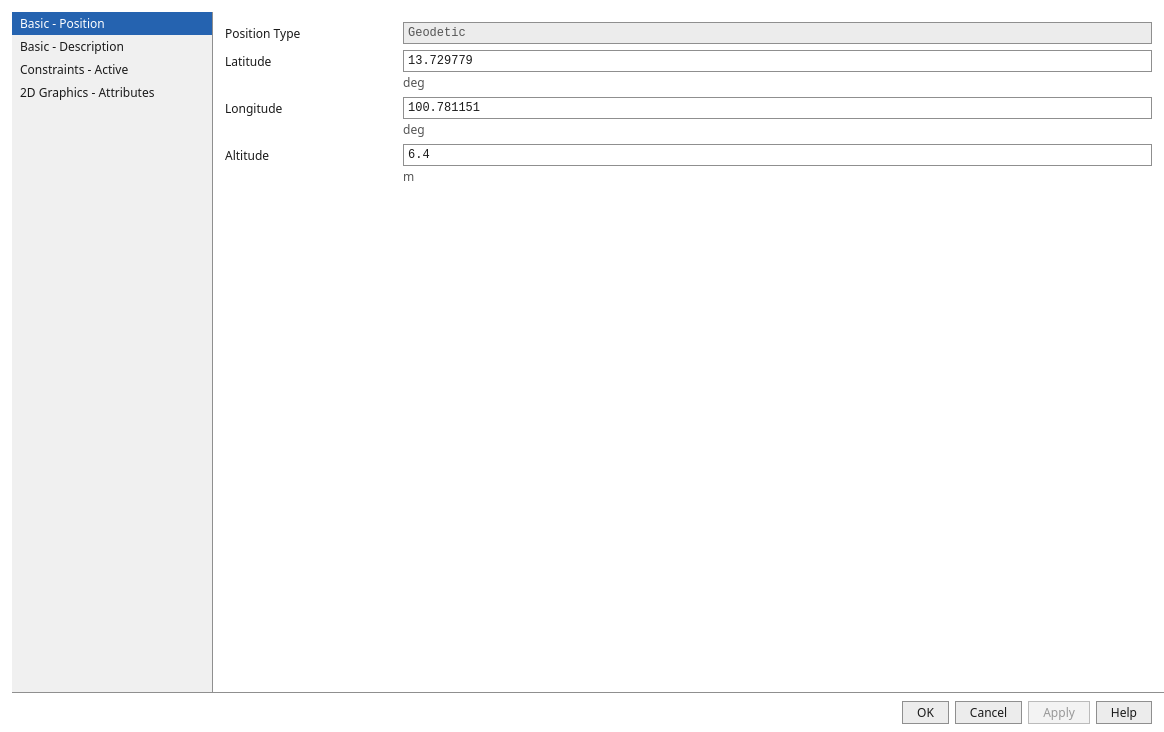
Apply on an object › THBK minimum elevation 15 sends only that field with If-Match, and a stale result refreshes the results
Step 1. Click the tab "Constraints - Active" → coordinates (112, 70), box 12,58 -> 212,81
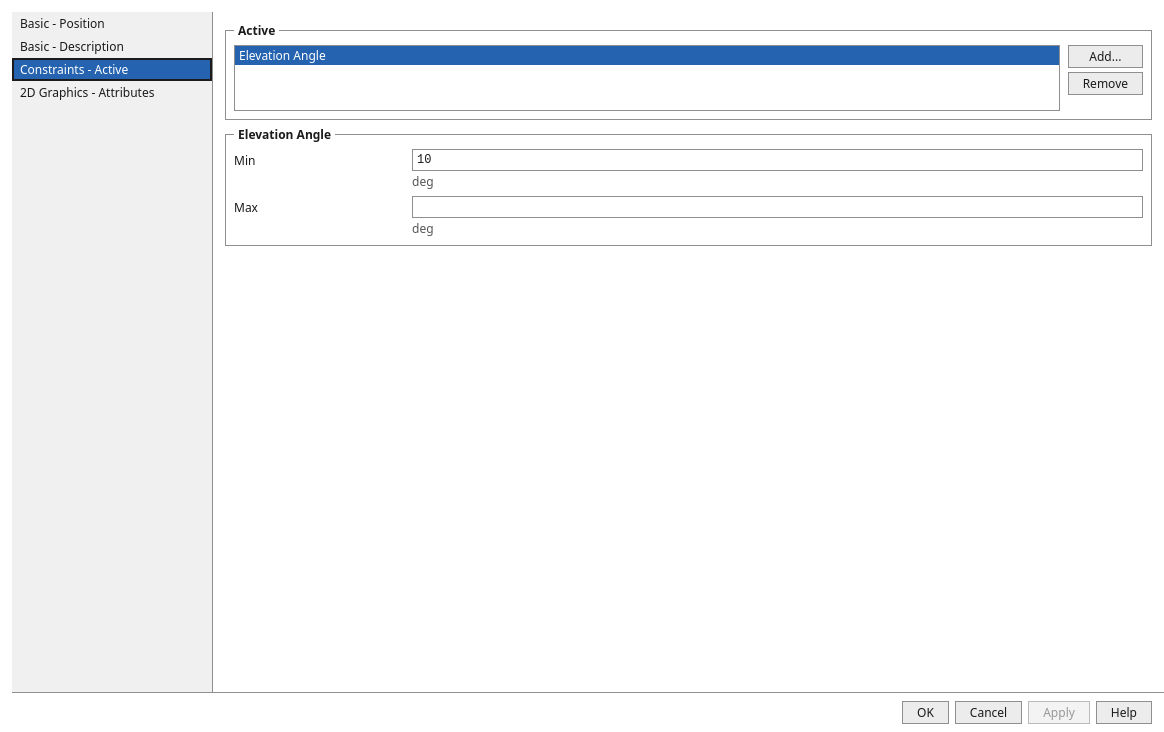
Step 2. Replace the text in the field labelled "Min" with "15" → coordinates (778, 160), box 412,149 -> 1143,171
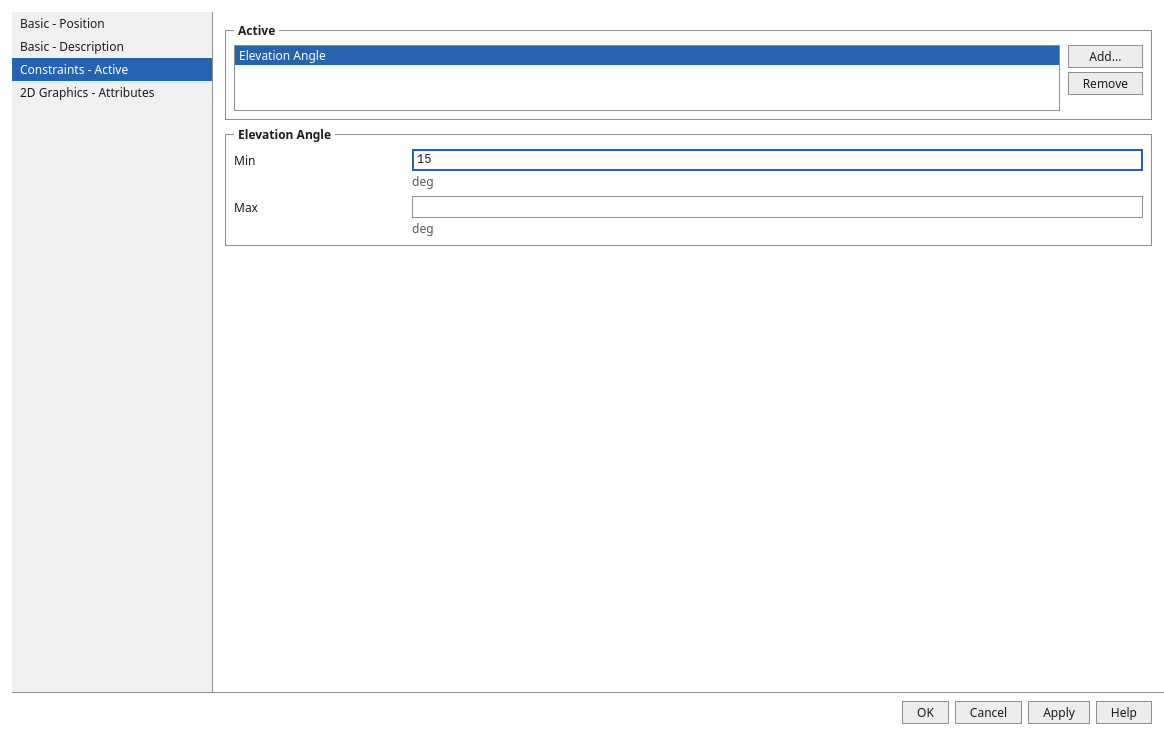
Step 3. Click the button "Apply" → coordinates (1059, 712), box 1028,701 -> 1090,724
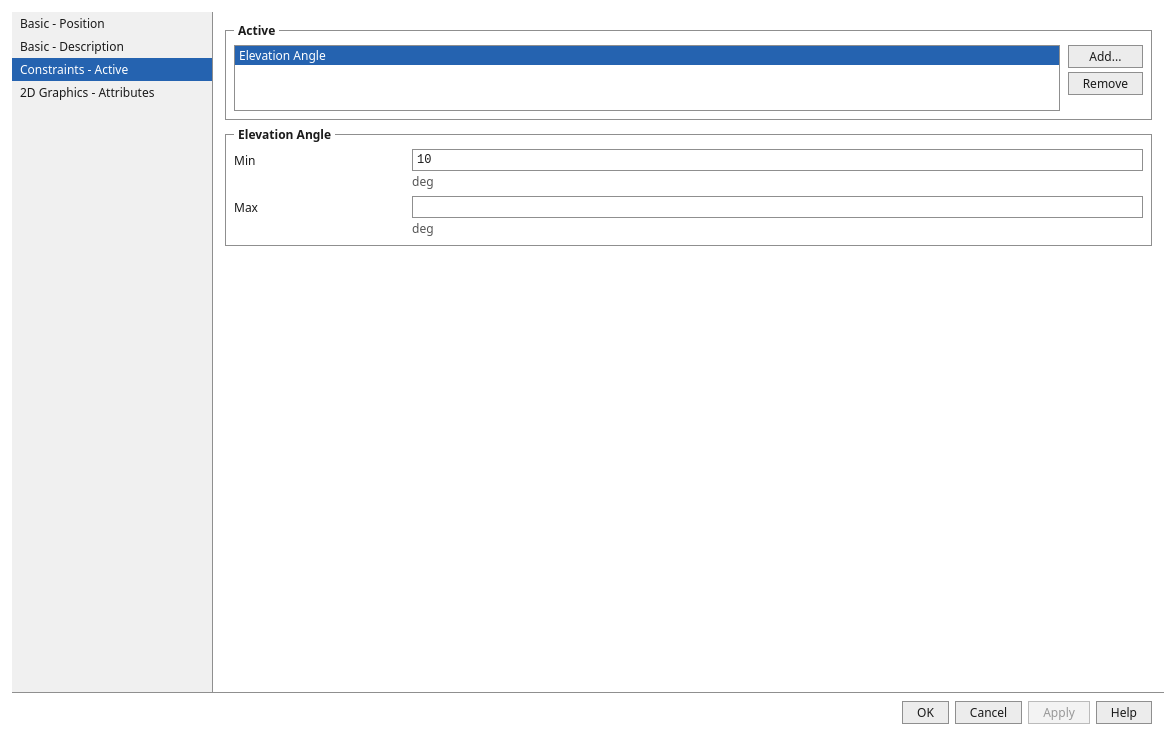
Expected: the button "Apply" is disabled, 1028,701 -> 1090,724
